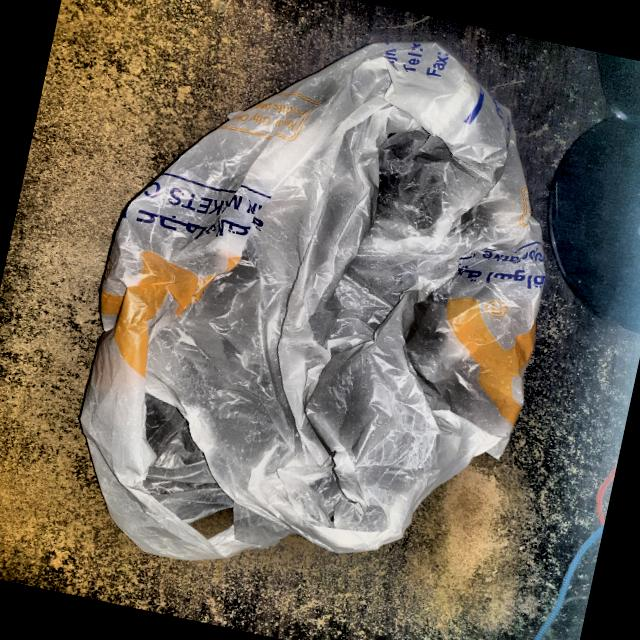plastic bag: (24, 0, 619, 637)
